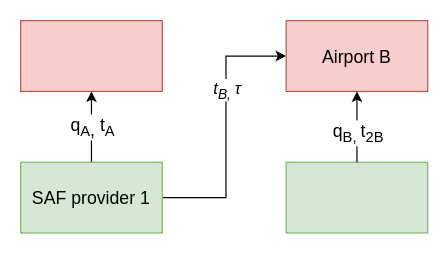
Some shapes in this 448 by 254 pixel diagram are drawn without their labels. Each missing label, with the centre of its shape:
Airport A: pixel 90 55
SAF provider 2: pixel 356 197
